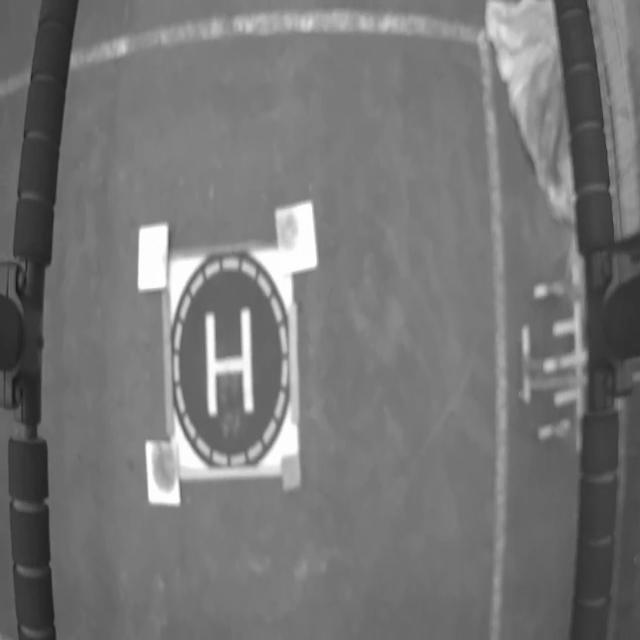Helipad: (206, 308, 254, 418)
